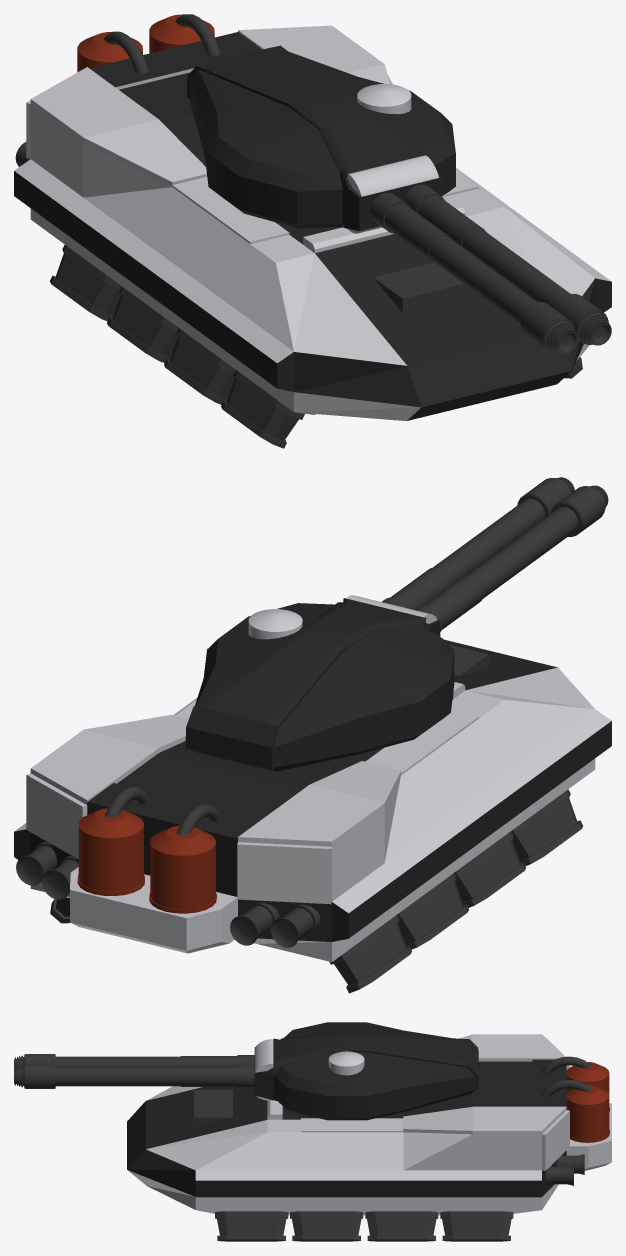
The model's file is Heavy Tank.fbx.
The picture shows the model from 3 angles, top to bottom: view 1: azimuth 30°, elevation 25°; view 2: azimuth 150°, elevation 25°; view 3: azimuth 270°, elevation 25°; orthographic projection. The views are drawn at different scales.
Visible parts, largest first — view 1: pCube24, pCube25, pCylinder32, pCylinder33, pCube30, pCube33, pCube31, pCube32, pCube29, pCylinder28, pCylinder27, pCylinder16 (+3 smaller); view 2: pCube24, pCube25, pCylinder32, pCylinder33, pCylinder16, pCylinder15, pCube31, pCube32, pCube29, pCube30, pCylinder20, pCylinder27 (+6 smaller); view 3: pCube24, pCube25, pCylinder33, pCylinder32, pCylinder15, pCube8, pCube28, pCube27, pCube26, pCube33, pCylinder16, pCylinder27 (+5 smaller).
Boxes of the visible parts, x1,y1,x2,y2 form: pCube24: [14, 25, 611, 420]; pCube25: [187, 45, 455, 231]; pCylinder32: [370, 192, 578, 353]; pCylinder33: [404, 184, 611, 345]; pCube30: [221, 370, 304, 448]; pCube33: [373, 262, 478, 312]; pCube31: [50, 245, 121, 321]; pCube32: [107, 286, 178, 362]; pCube29: [164, 328, 235, 404]; pCylinder28: [347, 155, 438, 196]; pCylinder27: [357, 83, 411, 114]; pCylinder16: [77, 32, 142, 72]; pCube24: [14, 639, 611, 962]; pCube25: [185, 598, 454, 771]; pCylinder32: [415, 485, 608, 631]; pCylinder33: [382, 477, 574, 609]; pCylinder16: [149, 825, 216, 913]; pCylinder15: [77, 808, 144, 895]; pCube31: [329, 915, 411, 993]; pCube32: [397, 873, 468, 949]; pCube29: [454, 831, 526, 907]; pCube30: [511, 789, 582, 865]; pCylinder20: [271, 904, 320, 947]; pCylinder27: [248, 609, 302, 639]; pCube24: [127, 1034, 611, 1215]; pCube25: [254, 1022, 478, 1120]; pCylinder33: [14, 1064, 254, 1088]; pCylinder32: [14, 1054, 254, 1070]; pCylinder15: [566, 1085, 609, 1142]; pCube8: [290, 1211, 363, 1241]; pCube28: [215, 1211, 288, 1241]; pCube27: [440, 1211, 513, 1241]; pCube26: [365, 1211, 438, 1241]; pCube33: [194, 1090, 232, 1126]; pCylinder16: [566, 1062, 609, 1111]; pCylinder27: [328, 1051, 364, 1075].
Size of the model in its own units: 393 by 273 by 925.
